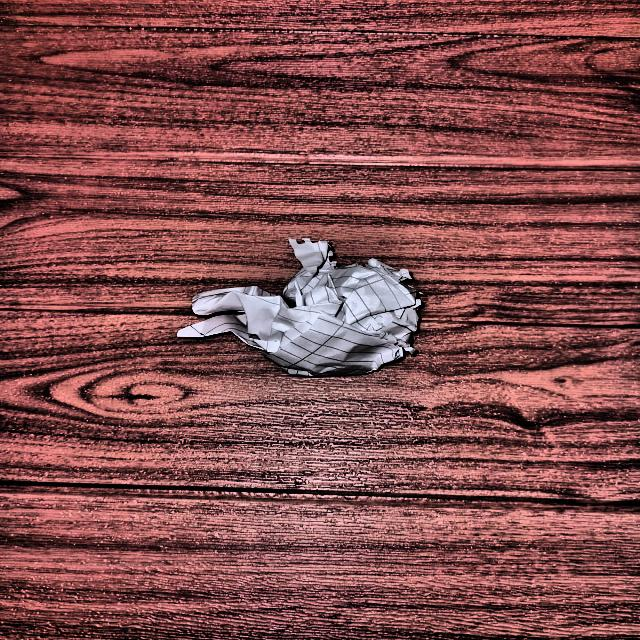Paper: (159, 239, 421, 380)
